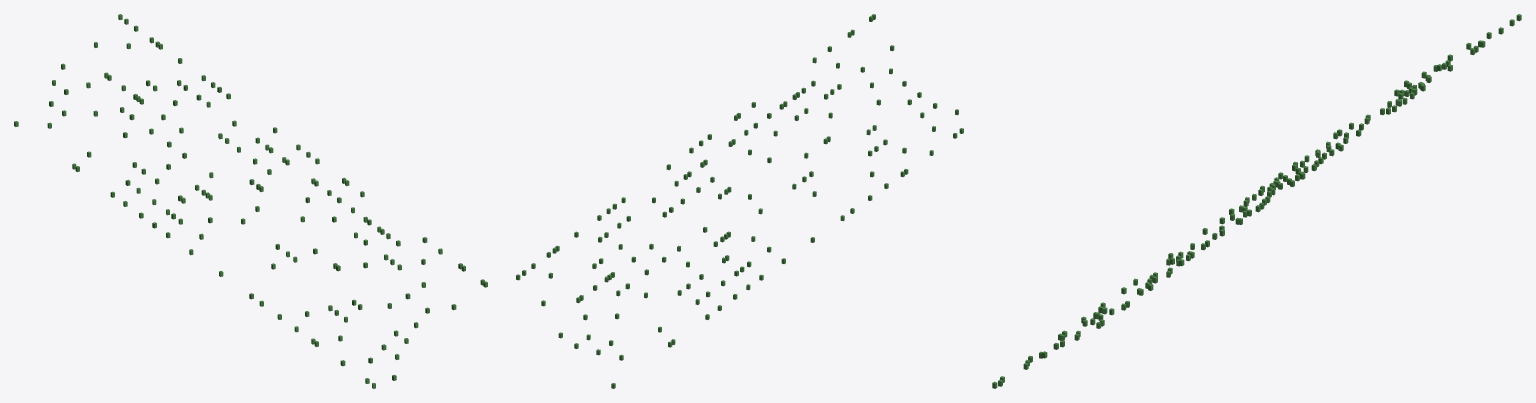
Rendered from CrowdW_CrowdGreen.fbx.
3 renders of one model, left to right at view 1: azimuth 30°, elevation 25°; view 2: azimuth 150°, elevation 25°; view 3: azimuth 330°, elevation 25°, orthographic. The views are drawn at different scales.
Parts seen in each view (by area): view 1: FanW3.001; view 2: FanW3.001; view 3: FanW3.001.
Boxes of the visible parts, left/top/right/bottom form: FanW3.001: left=14, top=14, right=487, bottom=388; FanW3.001: left=516, top=14, right=963, bottom=388; FanW3.001: left=992, top=14, right=1521, bottom=388.
Bounding box in the file's own units: 4127 × 3370 × 25644.
